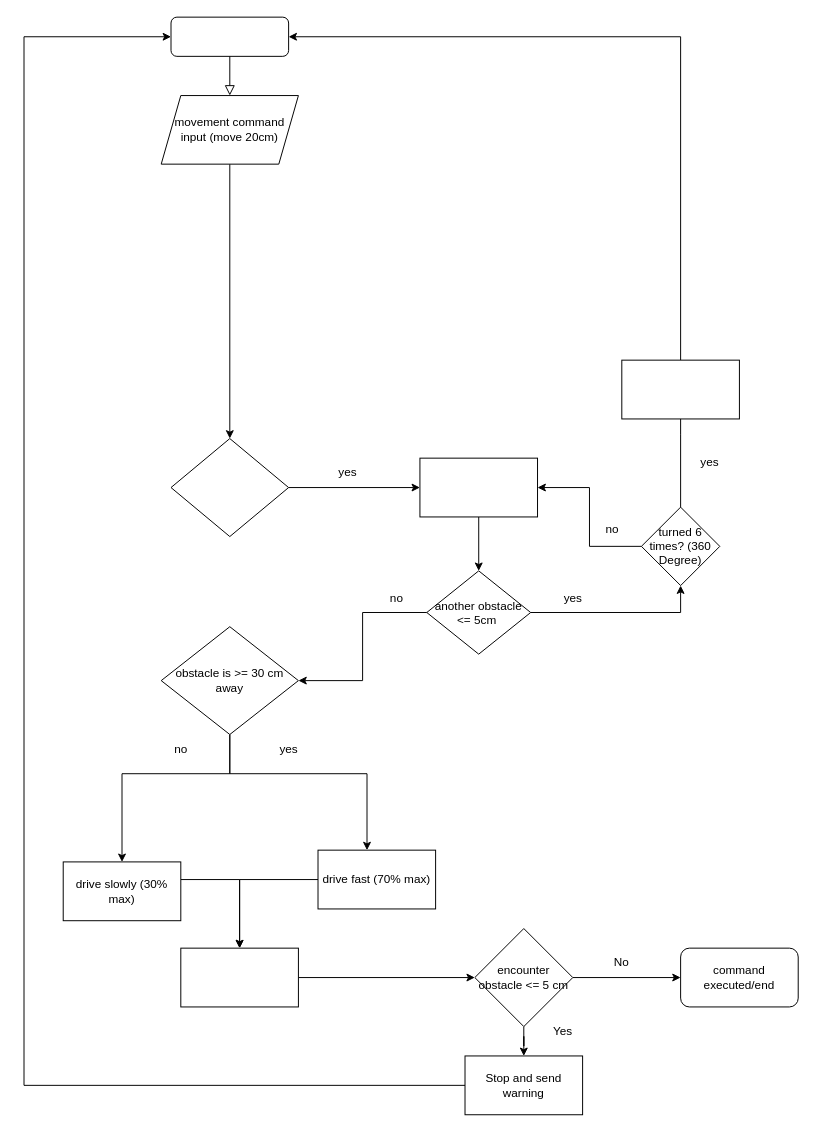
Image size: 815x1132. Some labels were removed from this diagram. Here are the shapes that lost their labels. From the top down, the box of each, then its label:
(170, 16, 289, 56): measure distance ahead
(621, 359, 739, 419): stop
(170, 438, 289, 537): obstacle is <= 5 cm away
(419, 457, 538, 517): send warning to website and rotate 60 degrees
(180, 947, 298, 1007): measure driven distance with encoders and check for obstacles
